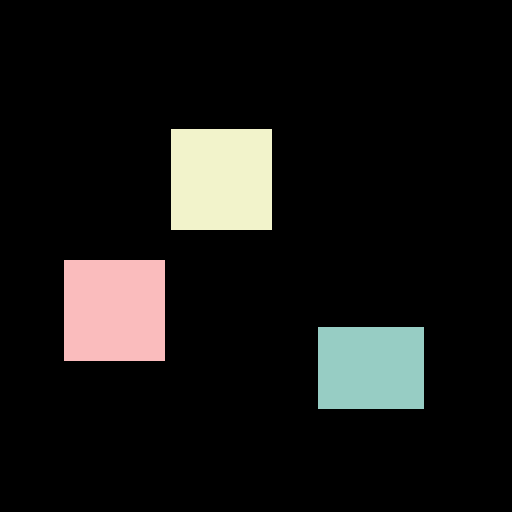rectangle: (318, 327, 423, 408)
square: (64, 260, 164, 360), (171, 129, 271, 229)
